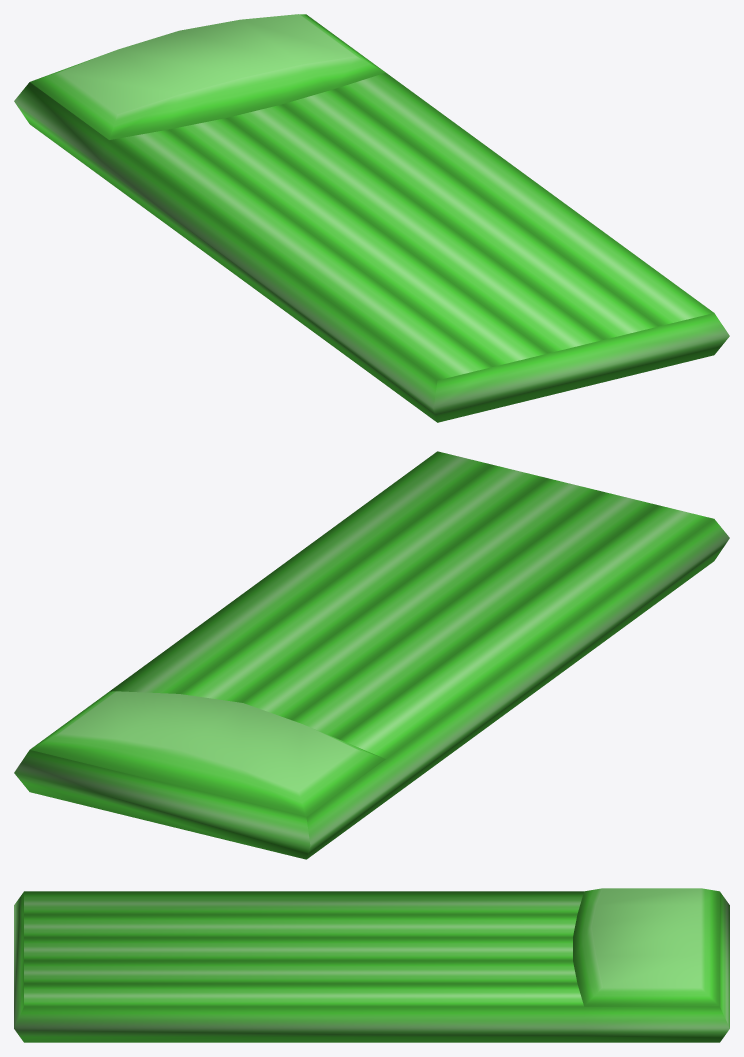
File: Inflatable_Bed_04.fbx
The picture shows the model from 3 angles, top to bottom: view 1: azimuth 30°, elevation 25°; view 2: azimuth 150°, elevation 25°; view 3: azimuth 270°, elevation 25°; orthographic projection. The views are drawn at different scales.
Visible parts, largest first — view 1: Inflatable_Bed_04; view 2: Inflatable_Bed_04; view 3: Inflatable_Bed_04.
Part boxes in pixels (x1,y1,x2,y2): Inflatable_Bed_04: [14, 14, 729, 422]; Inflatable_Bed_04: [14, 451, 729, 859]; Inflatable_Bed_04: [14, 888, 729, 1042].
Bounding box in the file's own units: 0.2846 × 0.0623 × 0.6982.
